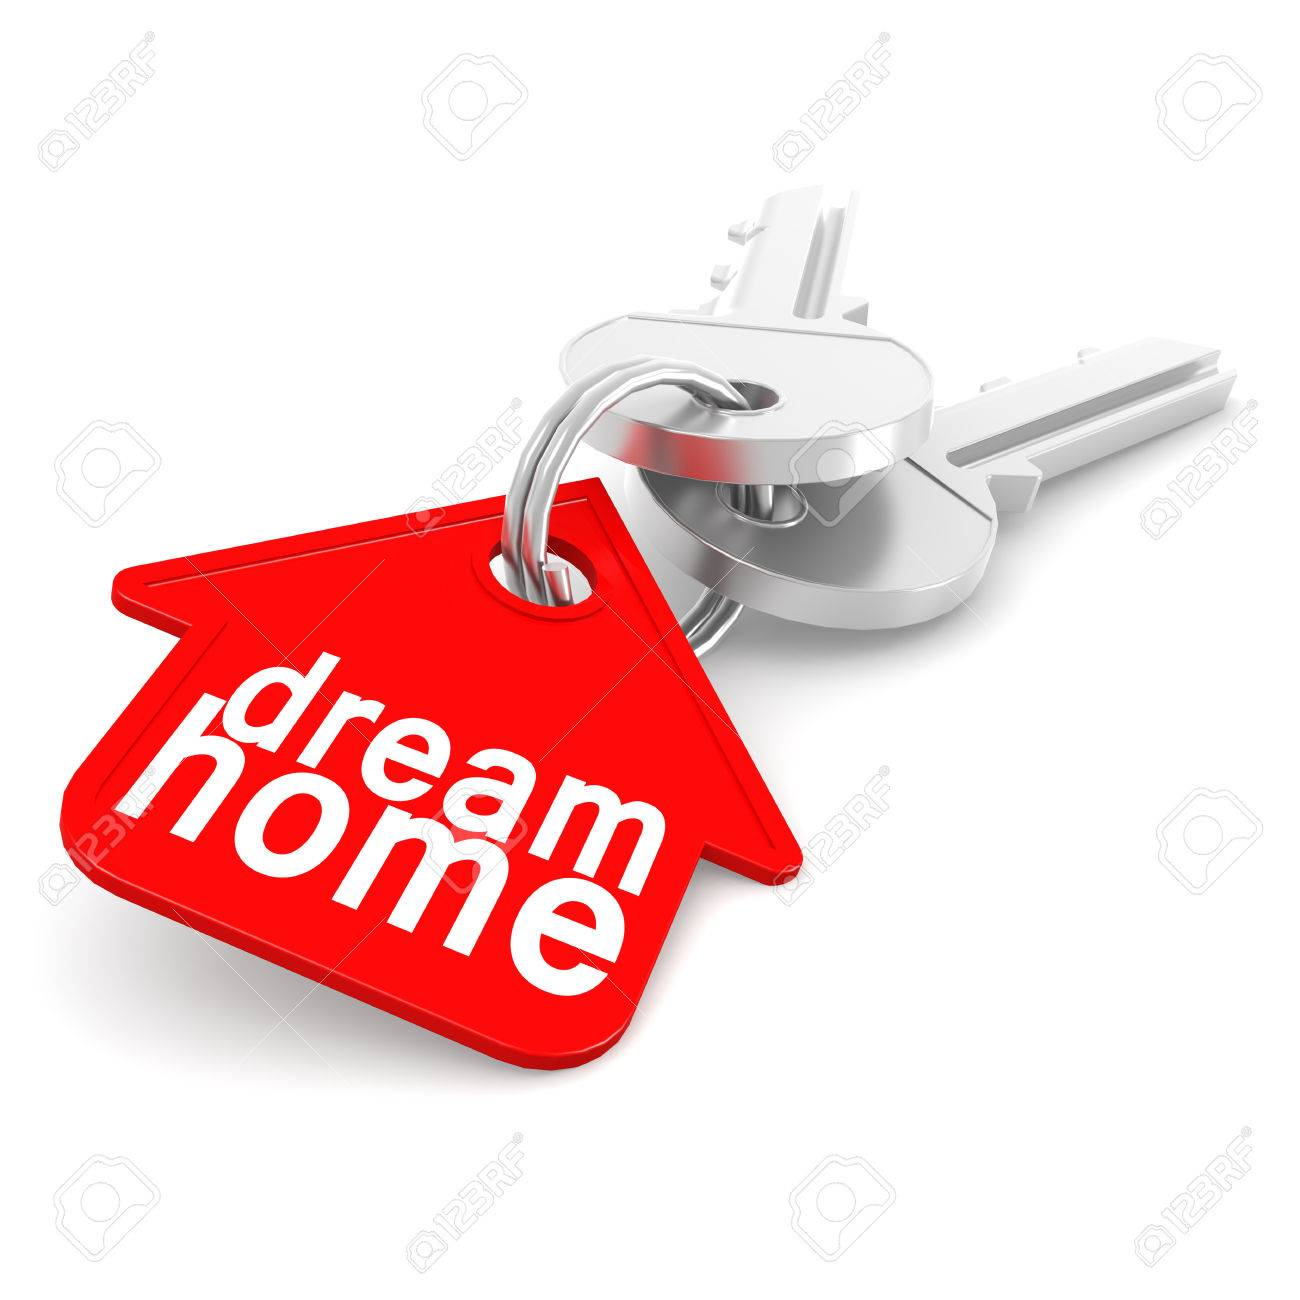key: (548, 208, 1252, 635)
